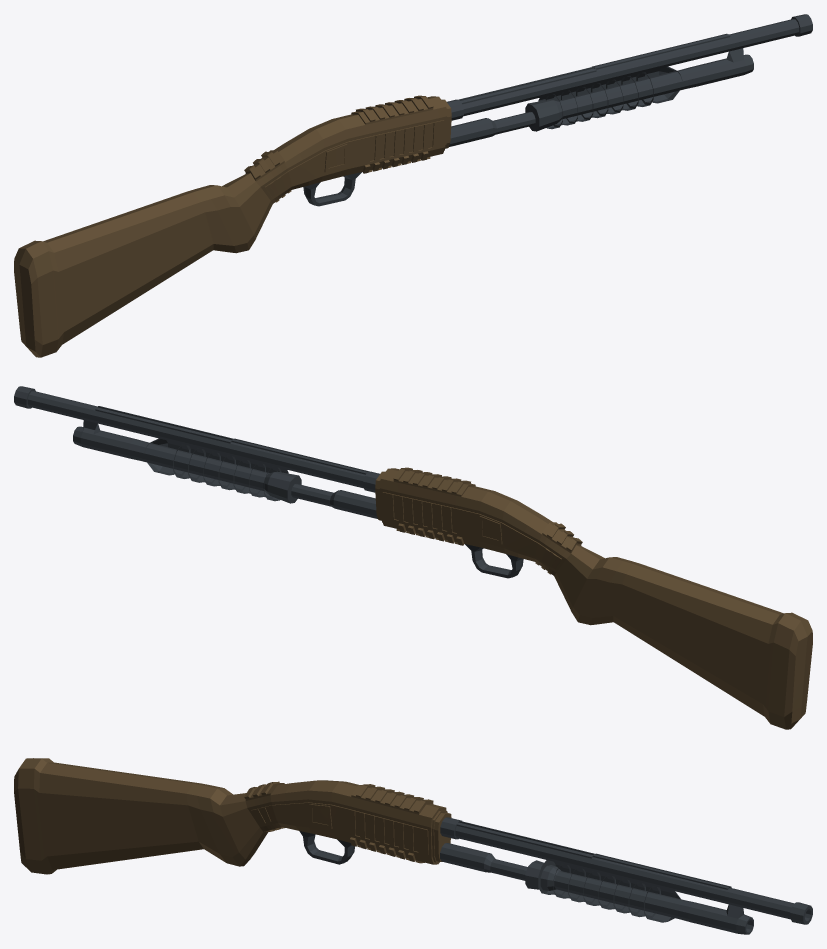
File: Shotgun.fbx
The picture shows the model from 3 angles, top to bottom: view 1: azimuth 30°, elevation 25°; view 2: azimuth 150°, elevation 25°; view 3: azimuth 330°, elevation 25°; orthographic projection.
Parts seen in each view (by area): view 1: Shotgun; view 2: Shotgun; view 3: Shotgun.
Part boxes in pixels (x1,y1,x2,y2): Shotgun: [14, 14, 812, 357]; Shotgun: [14, 386, 812, 729]; Shotgun: [14, 758, 812, 934].
Size of the model in its own units: 202 by 40.79 by 8.58.
